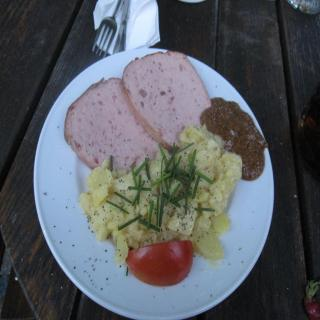tomato: (120, 240, 196, 284)
